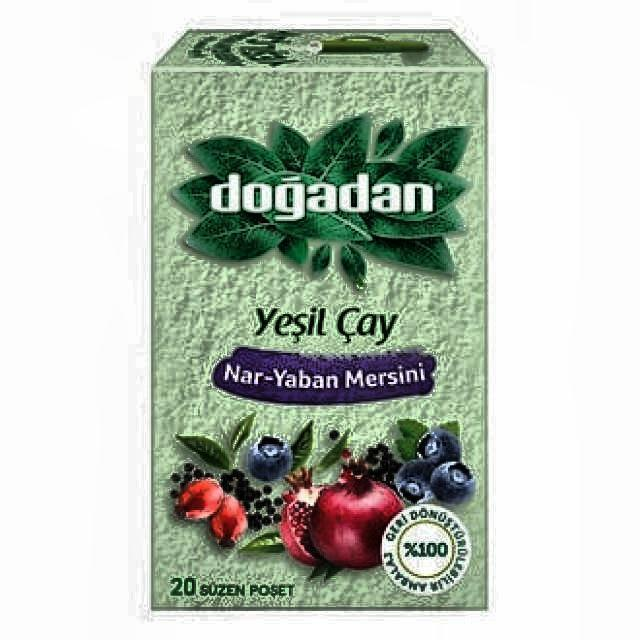cardboard: (149, 29, 490, 614)
